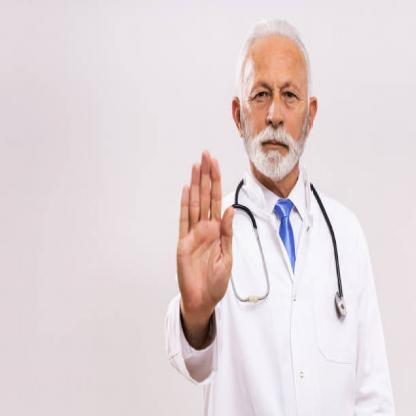stop: (174, 147, 236, 314)
